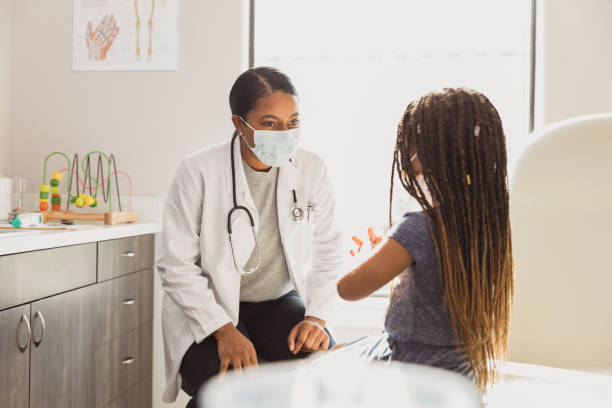with mask: (231, 84, 317, 169)
